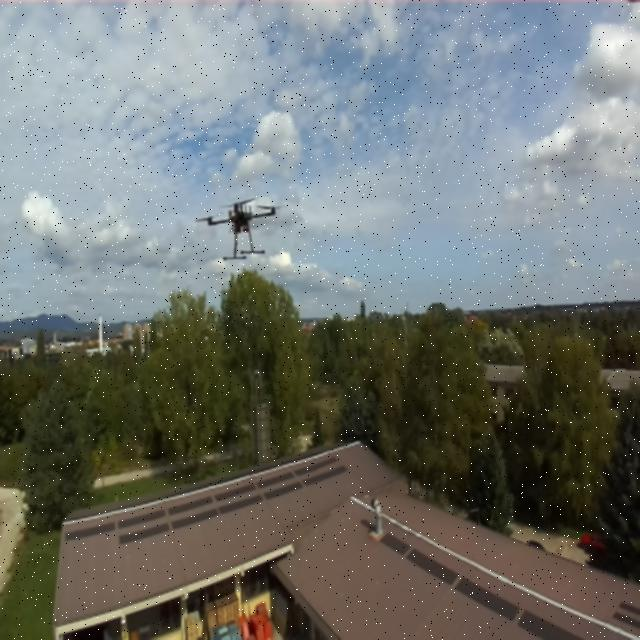UAV: (190, 189, 292, 258)
